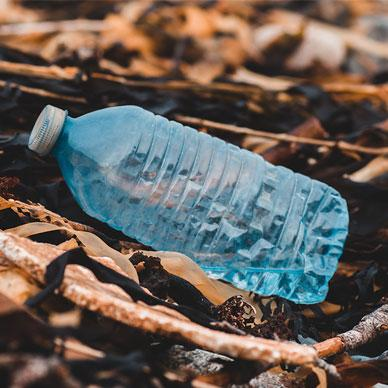plastic: (38, 106, 348, 303)
